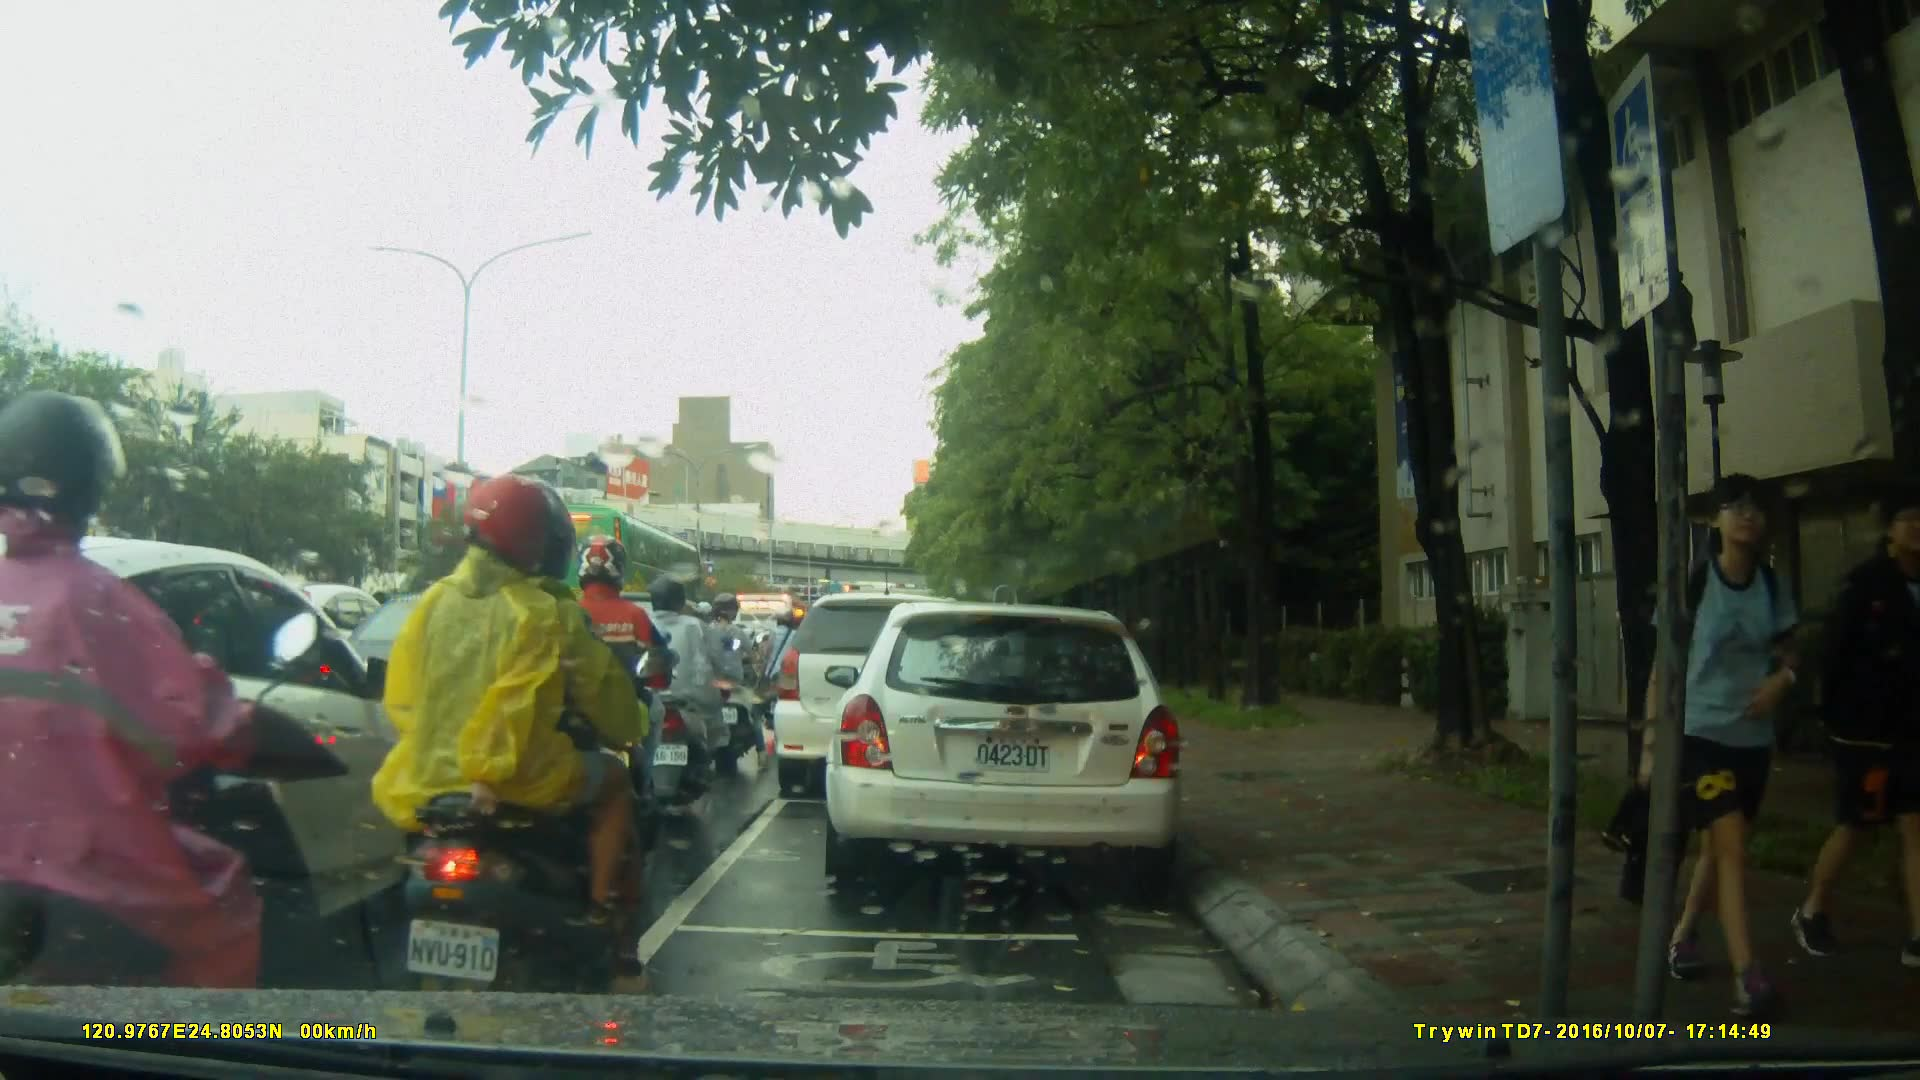pedestrian: (1623, 461, 1826, 1003), (1792, 499, 1920, 966)
rider: (1, 396, 324, 1063), (378, 475, 642, 1021), (544, 535, 684, 858), (625, 575, 732, 807), (699, 587, 767, 767), (758, 607, 814, 736)
vehicle: (2, 533, 461, 988), (831, 592, 1196, 897), (320, 590, 629, 776), (770, 590, 999, 804), (495, 500, 708, 636)
